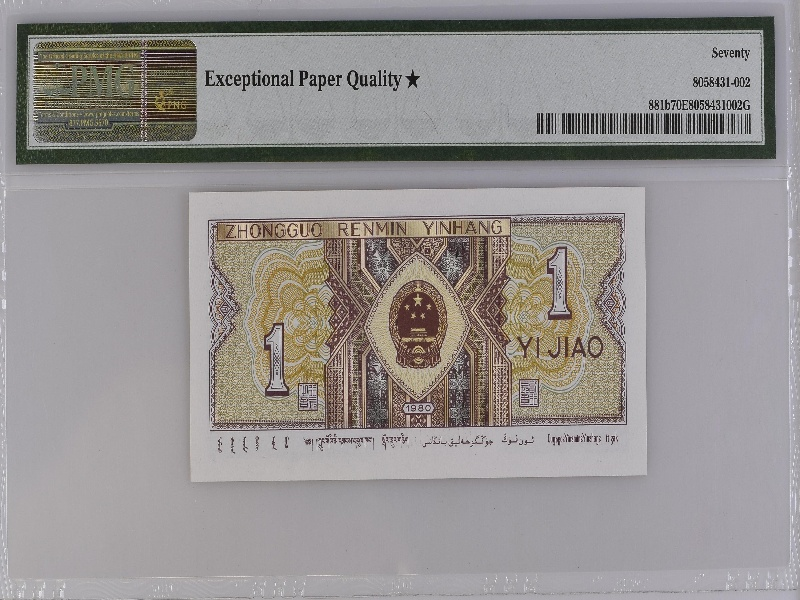papernote: (185, 185, 650, 479)
